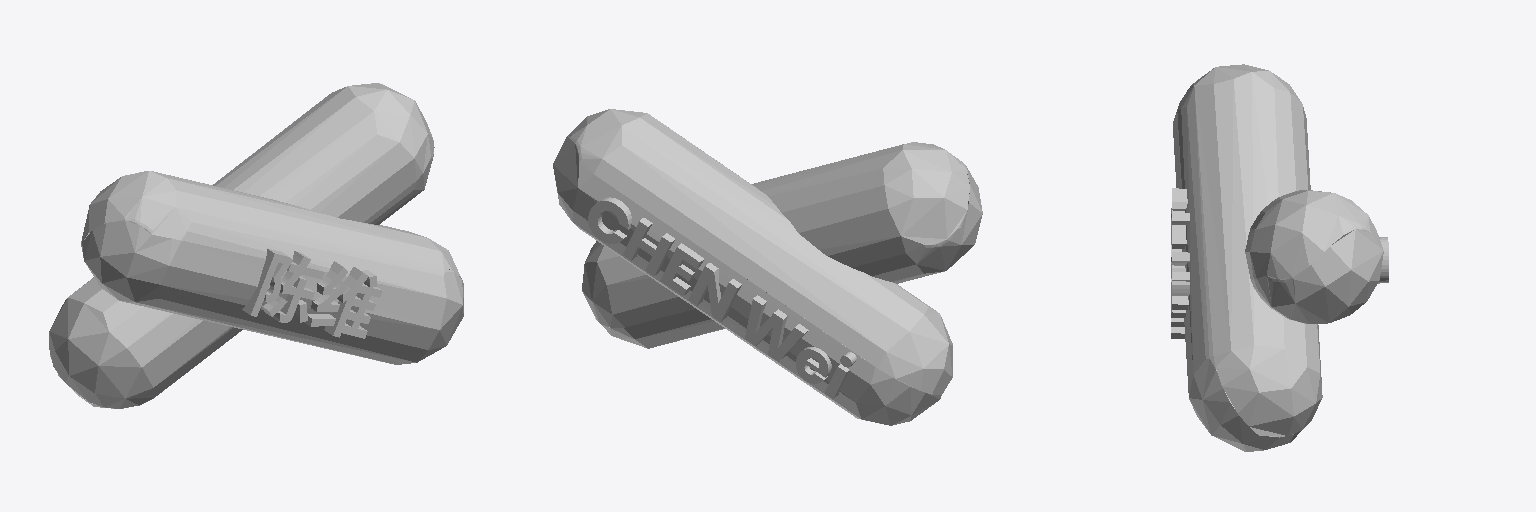
Rendered from ChenWei.obj.
3 renders of one model, left to right at view 1: azimuth 30°, elevation 25°; view 2: azimuth 150°, elevation 25°; view 3: azimuth 270°, elevation 25°, orthographic.
Parts seen in each view (by area): view 1: root_3, root_2, node_id161; view 2: root_2, root_3, node_id146; view 3: root_3, root_2, node_id161.
Boxes of the visible parts, x1=… form: root_3: x1=81, y1=171, x2=463, y2=364; root_2: x1=49, y1=83, x2=434, y2=408; node_id161: x1=242, y1=248, x2=382, y2=338; root_2: x1=553, y1=109, x2=952, y2=425; root_3: x1=582, y1=142, x2=982, y2=348; node_id146: x1=588, y1=197, x2=856, y2=398; root_3: x1=1173, y1=64, x2=1322, y2=451; root_2: x1=1245, y1=190, x2=1383, y2=323; node_id161: x1=1171, y1=188, x2=1189, y2=338.
Bounding box in the file's own units: 0.289 × 0.1836 × 0.1453.